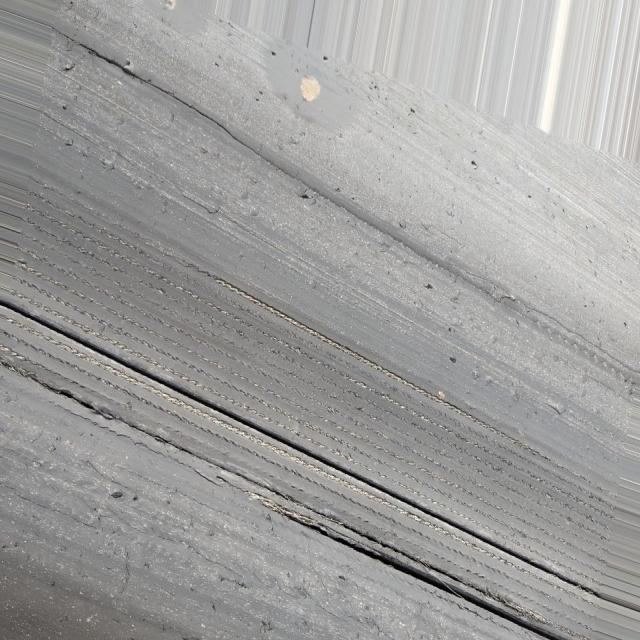Tear: (0, 292, 600, 602), (262, 489, 566, 640), (74, 31, 256, 156)
Wear: (34, 182, 602, 582)
